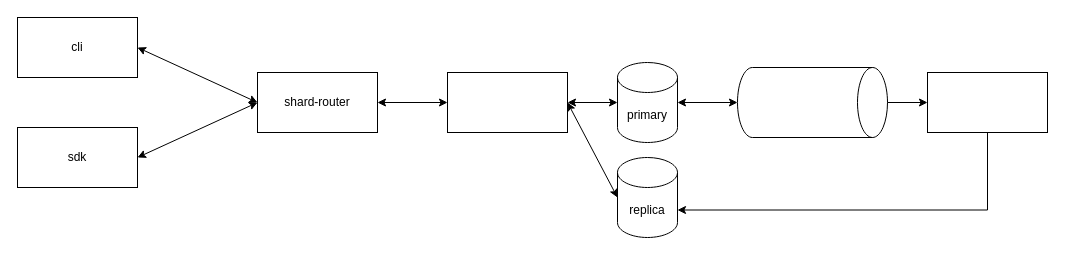
The diagram is 1065 pixels wide and 255 high, and some of its shapes have lost their labels. Each missing label, with the box of its shape:
message-queue: (736, 66, 888, 138)
replica-router: (446, 72, 568, 132)
replica-write-service: (926, 72, 1048, 132)
